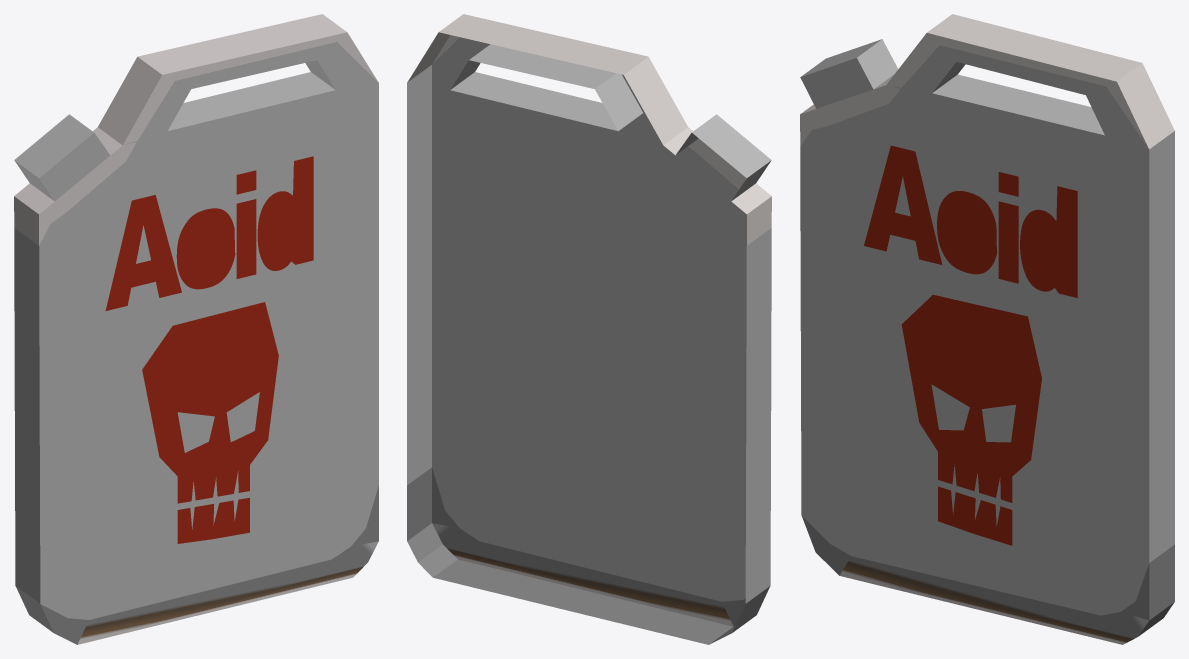
Rendered from canister.FBX.
3 views of the same model, side by side, from view 1: azimuth 30°, elevation 25°; view 2: azimuth 150°, elevation 25°; view 3: azimuth 330°, elevation 25° (orthographic). The views are drawn at different scales.
Parts seen in each view (by area): view 1: canister; view 2: canister; view 3: canister.
Boxes of the visible parts, x1,y1,x2,y2 form: canister: (14, 14, 378, 644); canister: (407, 14, 771, 644); canister: (800, 14, 1174, 644).
Size of the model in its own units: 63.5 by 98.08 by 9.79.
Materials: 1 (1 with a texture image).
